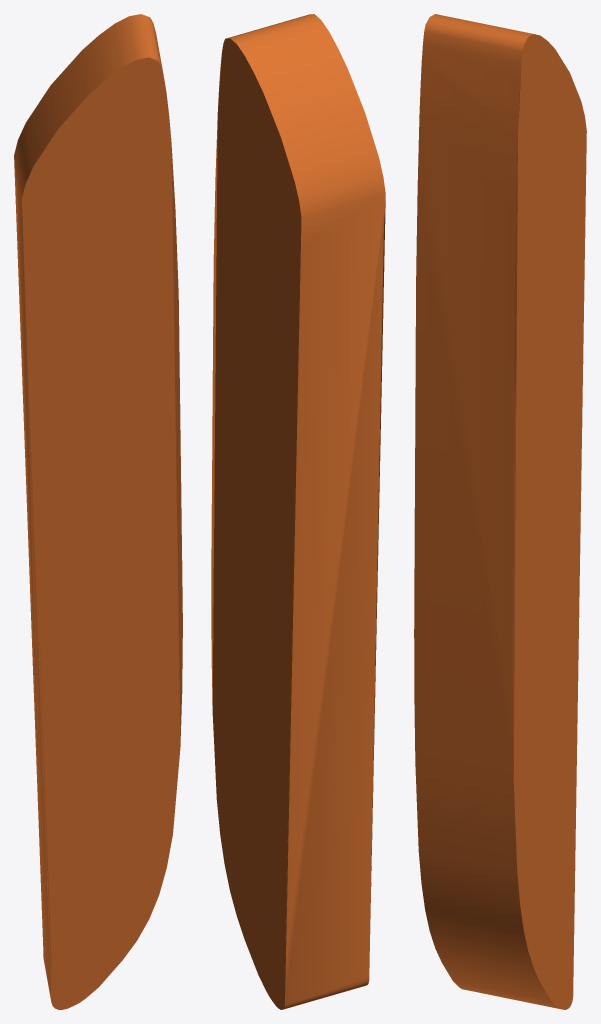
File: cobain alif2.fbx
3 views of the same model, side by side, from view 1: azimuth 30°, elevation 25°; view 2: azimuth 150°, elevation 25°; view 3: azimuth 270°, elevation 25° (orthographic). The views are drawn at different scales.
Parts seen in each view (by area): view 1: ALIF; view 2: ALIF; view 3: ALIF.
Part boxes in pixels (bbox=[...]): ALIF: bbox=[14, 14, 182, 1009]; ALIF: bbox=[211, 14, 385, 1009]; ALIF: bbox=[414, 14, 586, 1009].
Bounding box in the file's own units: 77.23 × 425 × 66.08.
